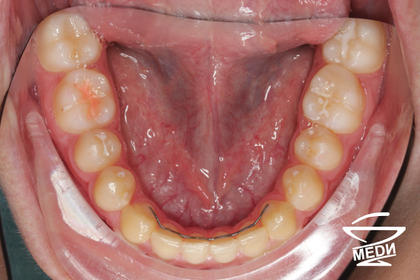LL1BC_healthy: (282, 164, 323, 210)
LL1M_healthy: (304, 65, 363, 131), (325, 40, 388, 70)
LL2BC_decay: (294, 127, 340, 170)
LLCI_decay: (210, 232, 237, 263)
LLC_decay: (261, 201, 296, 238)
LLLI_decay: (239, 223, 267, 257)
LR1BC_healthy: (95, 166, 135, 211)
LR1M_decay: (53, 69, 115, 132)
LR2BC_healthy: (76, 130, 121, 171)
LR2M_decay: (39, 15, 101, 69)
LRCI_decay: (184, 232, 208, 264)
LRC_decay: (121, 204, 158, 243)
LRLI_decay: (155, 223, 183, 262)
